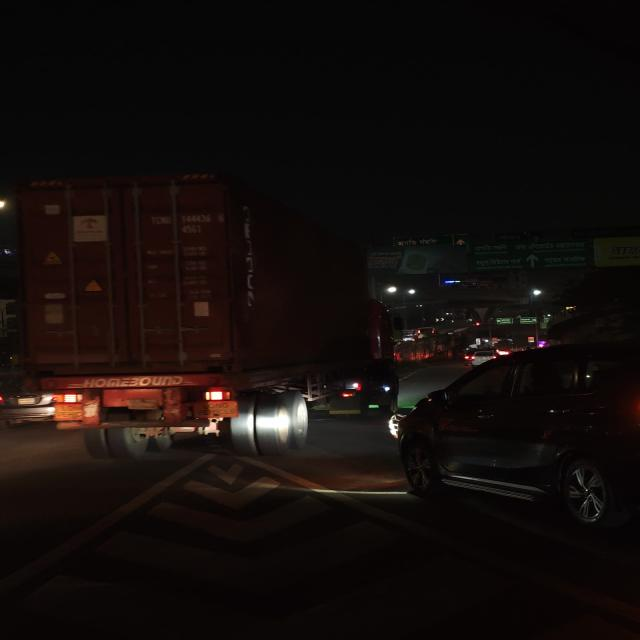car: (405, 360, 637, 522), (468, 348, 495, 366)
truck: (19, 166, 398, 444)
